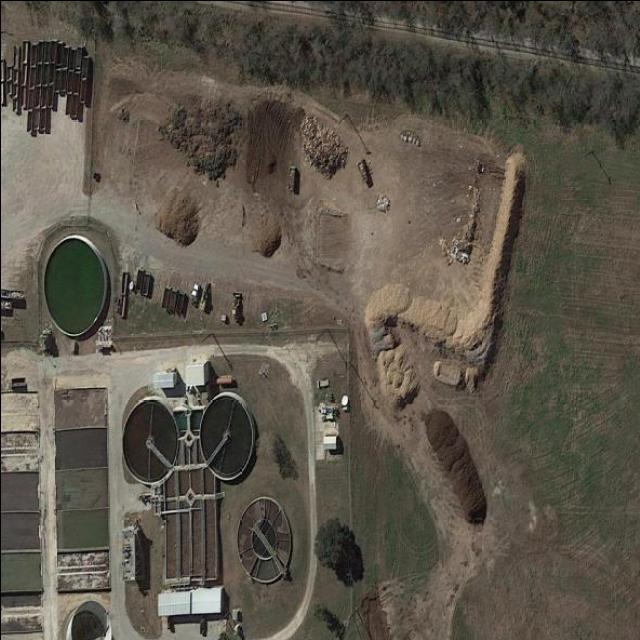dump_site: (159, 94, 240, 189), (291, 106, 353, 189), (374, 188, 393, 217), (356, 160, 368, 182), (288, 166, 294, 189)
